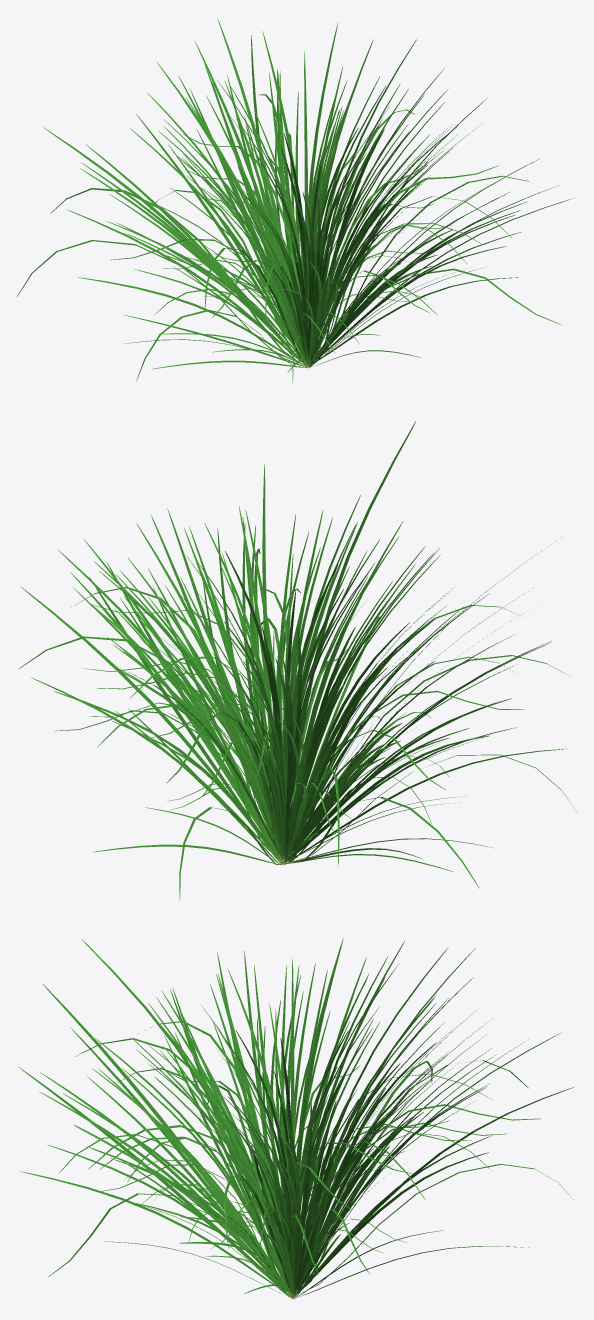
Rendered from karekkusu_nocolor.fbx.
3 renders of one model, top to bottom at view 1: azimuth 30°, elevation 25°; view 2: azimuth 150°, elevation 25°; view 3: azimuth 270°, elevation 25°, orthographic. The views are drawn at different scales.
Parts seen in each view (by area): view 1: 058.054; view 2: 058.054; view 3: 058.054.
Part boxes in pixels (box(x1,y1,x2,y2)): 058.054: box(17, 18, 573, 383); 058.054: box(19, 421, 576, 900); 058.054: box(18, 938, 573, 1299).
Bounding box in the file's own units: 0.7741 × 0.5175 × 0.7401.
1 material, 1 textured.
